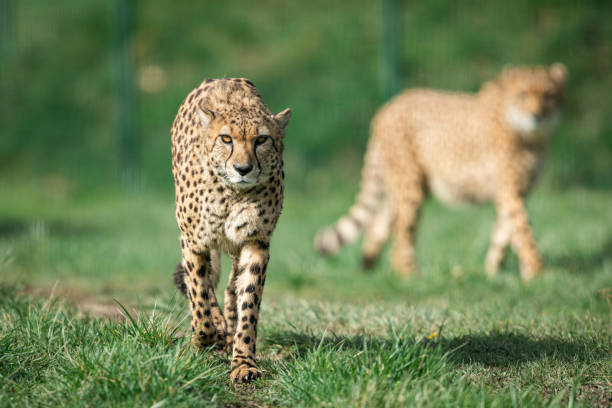cheetah: (181, 95, 293, 198)
